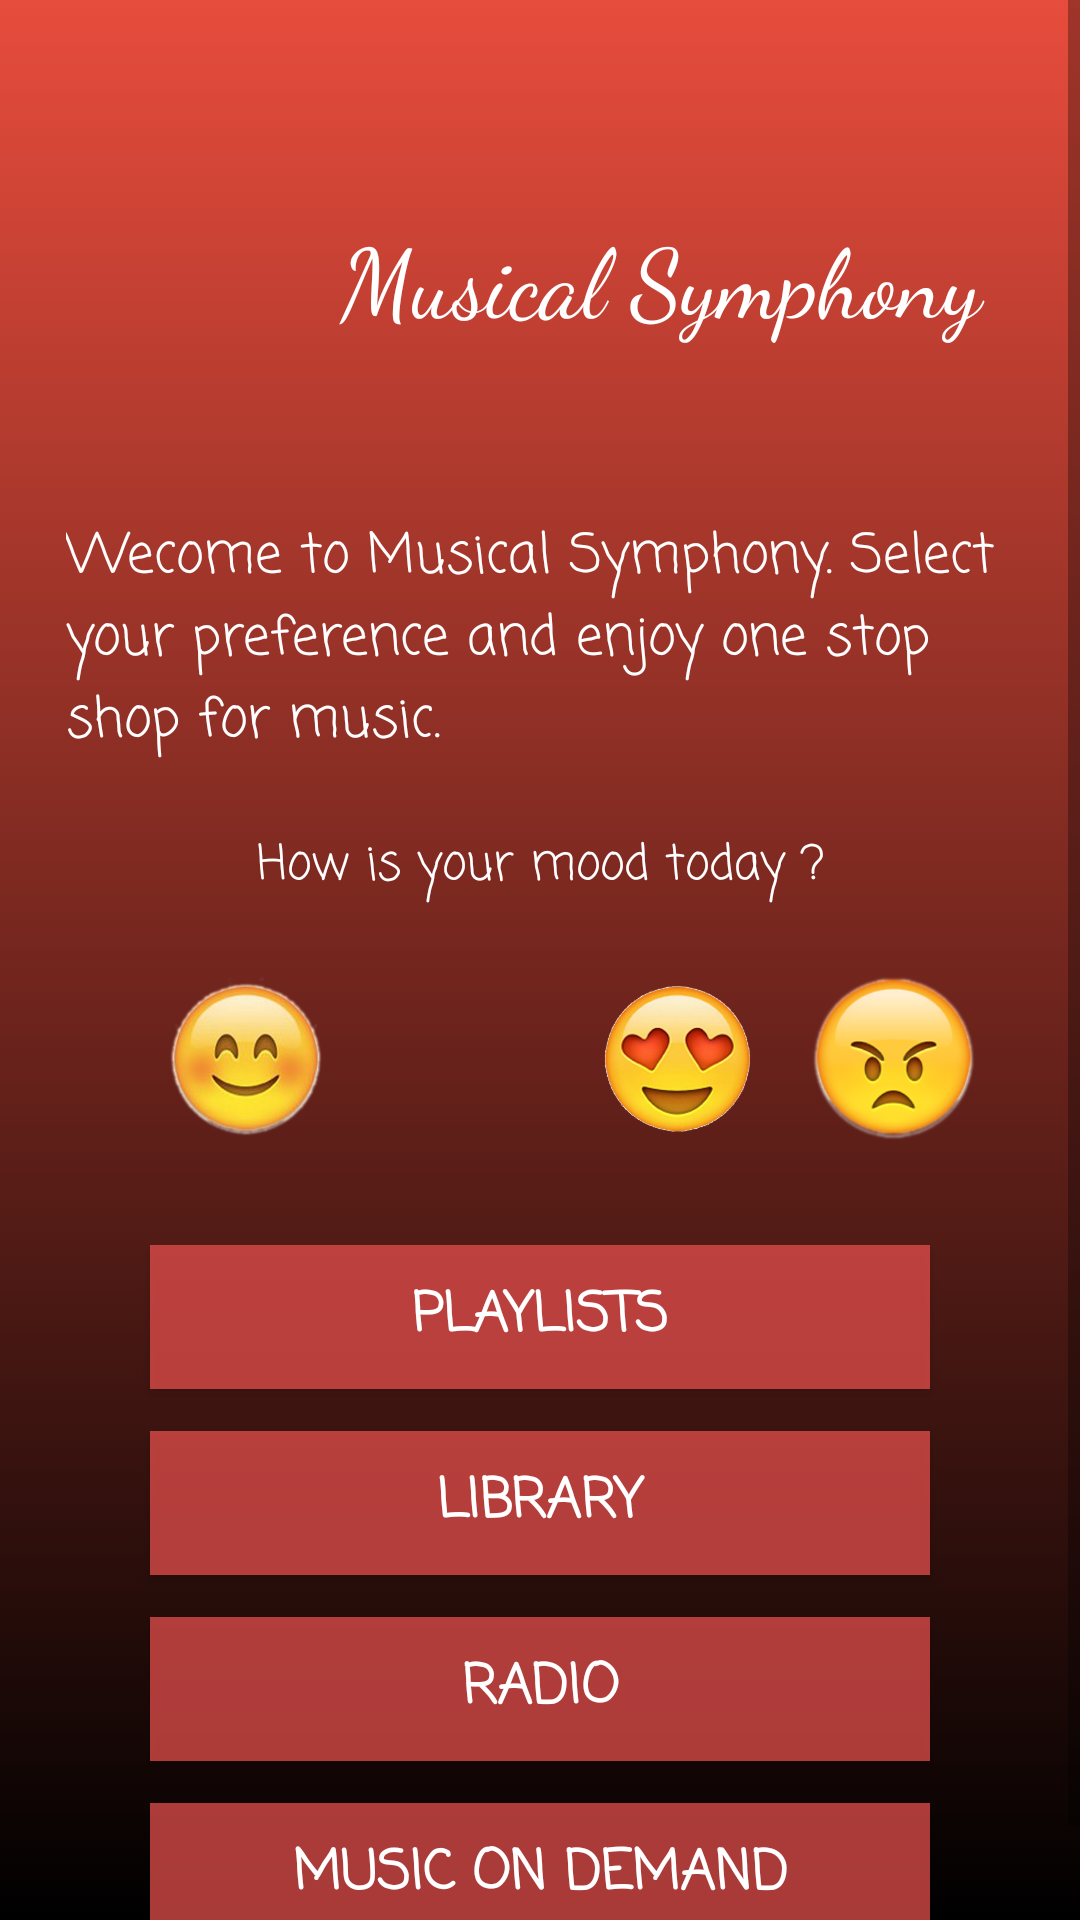

Named icons in this screenshot (1080×1920) and their centers, (x,y):
angry mood: (893,1058)
happy mood: (246,1059)
love mood: (677,1059)
